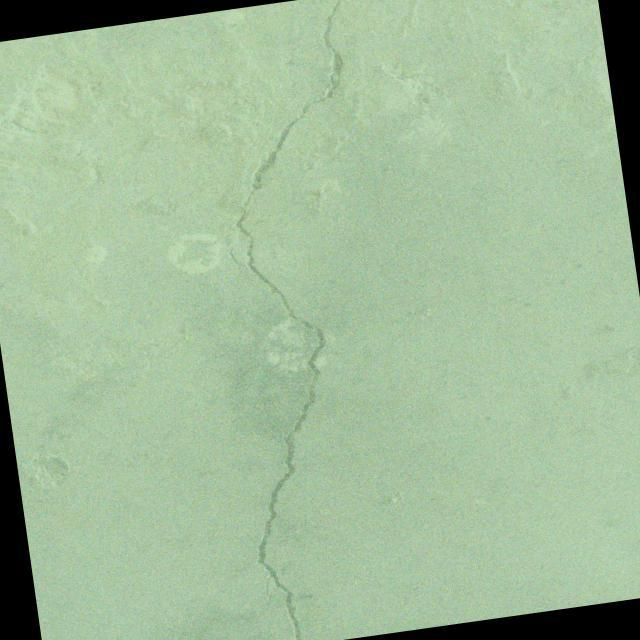crack: (170, 0, 431, 640)
